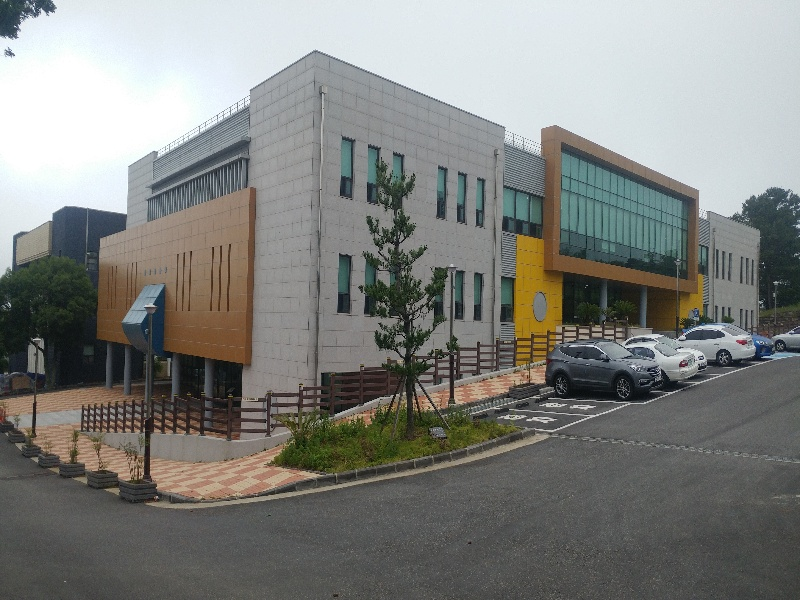Digital Library: (112, 45, 761, 315), (129, 81, 488, 383)
